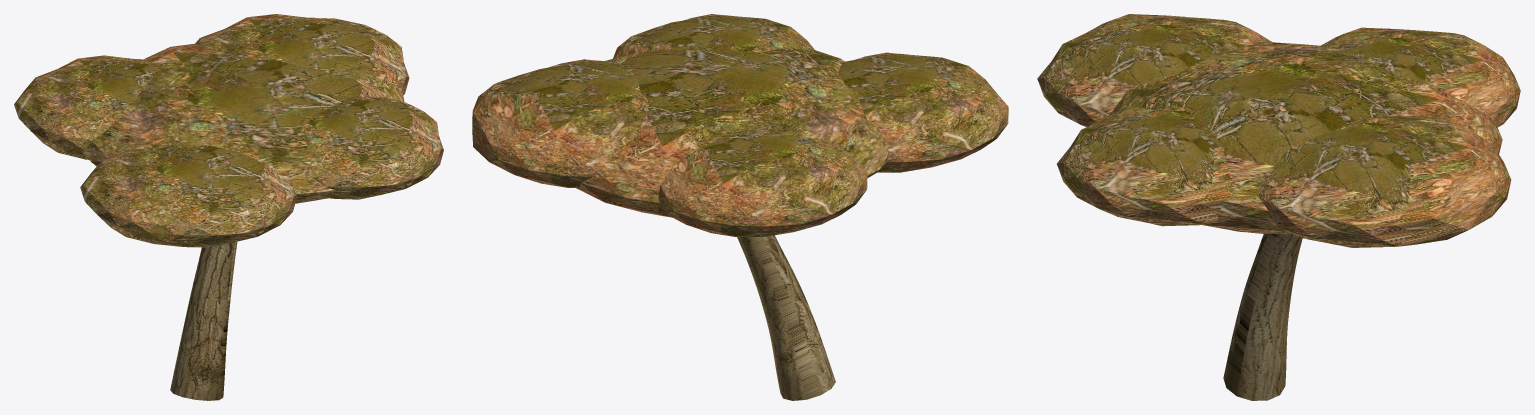
File: acacia_canopy.glb
The picture shows the model from 3 angles, left to right: view 1: azimuth 30°, elevation 25°; view 2: azimuth 150°, elevation 25°; view 3: azimuth 270°, elevation 25°; orthographic projection. The views are drawn at different scales.
Visible parts, largest first — view 1: Acacia_Canopy_Center, Acacia_Canopy_South, Acacia_Canopy_East, Acacia_Canopy_North, Acacia_Canopy_West, Acacia_Trunk; view 2: Acacia_Canopy_Center, Acacia_Canopy_West, Acacia_Canopy_North, Acacia_Canopy_South, Acacia_Trunk, Acacia_Canopy_East; view 3: Acacia_Canopy_Center, Acacia_Canopy_North, Acacia_Canopy_East, Acacia_Canopy_South, Acacia_Canopy_West, Acacia_Trunk.
Boxes of the visible parts, x1,y1,x2,y2 form: Acacia_Canopy_Center: (81, 43, 404, 203); Acacia_Canopy_South: (80, 144, 296, 247); Acacia_Canopy_East: (302, 97, 443, 199); Acacia_Canopy_North: (195, 14, 409, 94); Acacia_Canopy_West: (14, 55, 155, 159); Acacia_Trunk: (170, 241, 237, 400); Acacia_Canopy_Center: (576, 48, 889, 217); Acacia_Canopy_West: (658, 133, 867, 236); Acacia_Canopy_North: (472, 59, 649, 187); Acacia_Canopy_South: (838, 52, 1008, 172); Acacia_Trunk: (737, 235, 835, 400); Acacia_Canopy_East: (613, 14, 814, 58); Acacia_Canopy_Center: (1108, 42, 1502, 233); Acacia_Canopy_North: (1258, 116, 1511, 247); Acacia_Canopy_East: (1057, 105, 1232, 226); Acacia_Canopy_South: (1037, 14, 1272, 126); Acacia_Canopy_West: (1321, 27, 1520, 127); Acacia_Trunk: (1223, 234, 1302, 400).
Bounding box in the file's own units: 10.82 × 7.7 × 10.05.
Materials: 2 (2 with a texture image).
